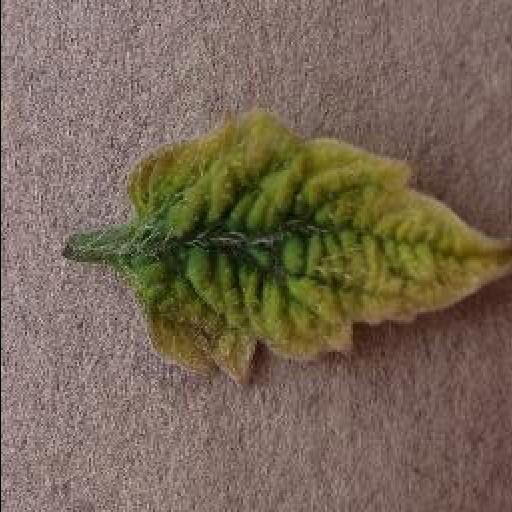disease_tomato: (120, 112, 512, 386)
